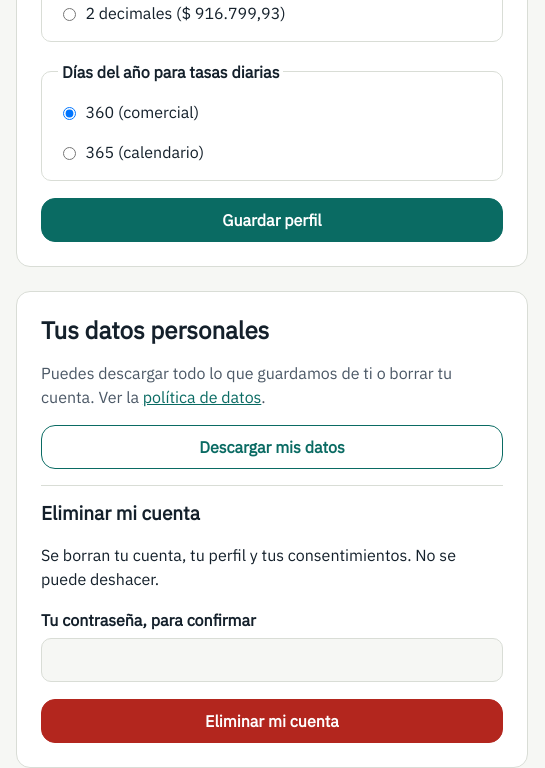
Test: HU-05: descargar mis datos y eliminar mi cuenta › si falla la lectura de consentimientos no descarga y muestra el error
(page scrolled)
Click the button "Descargar mis datos": point(272, 447) [41,425,503,469]
(page scrolled)
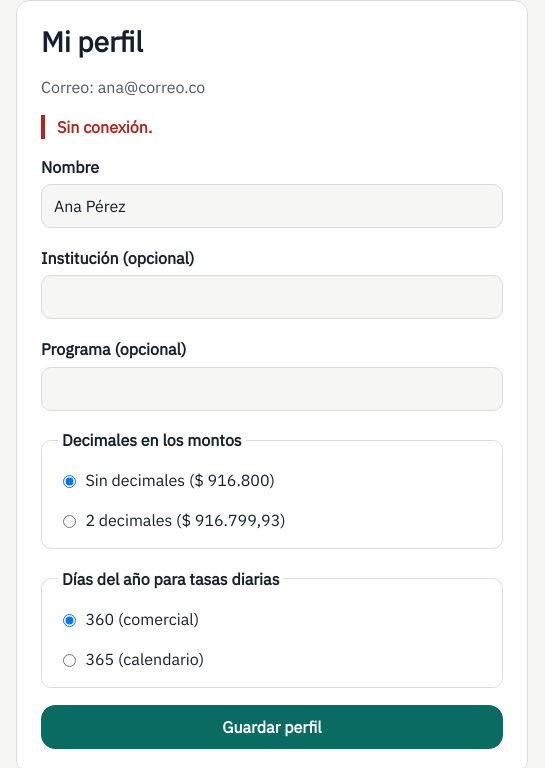
Expected: the message reads "Sin conexión.", [57,117,152,137]
